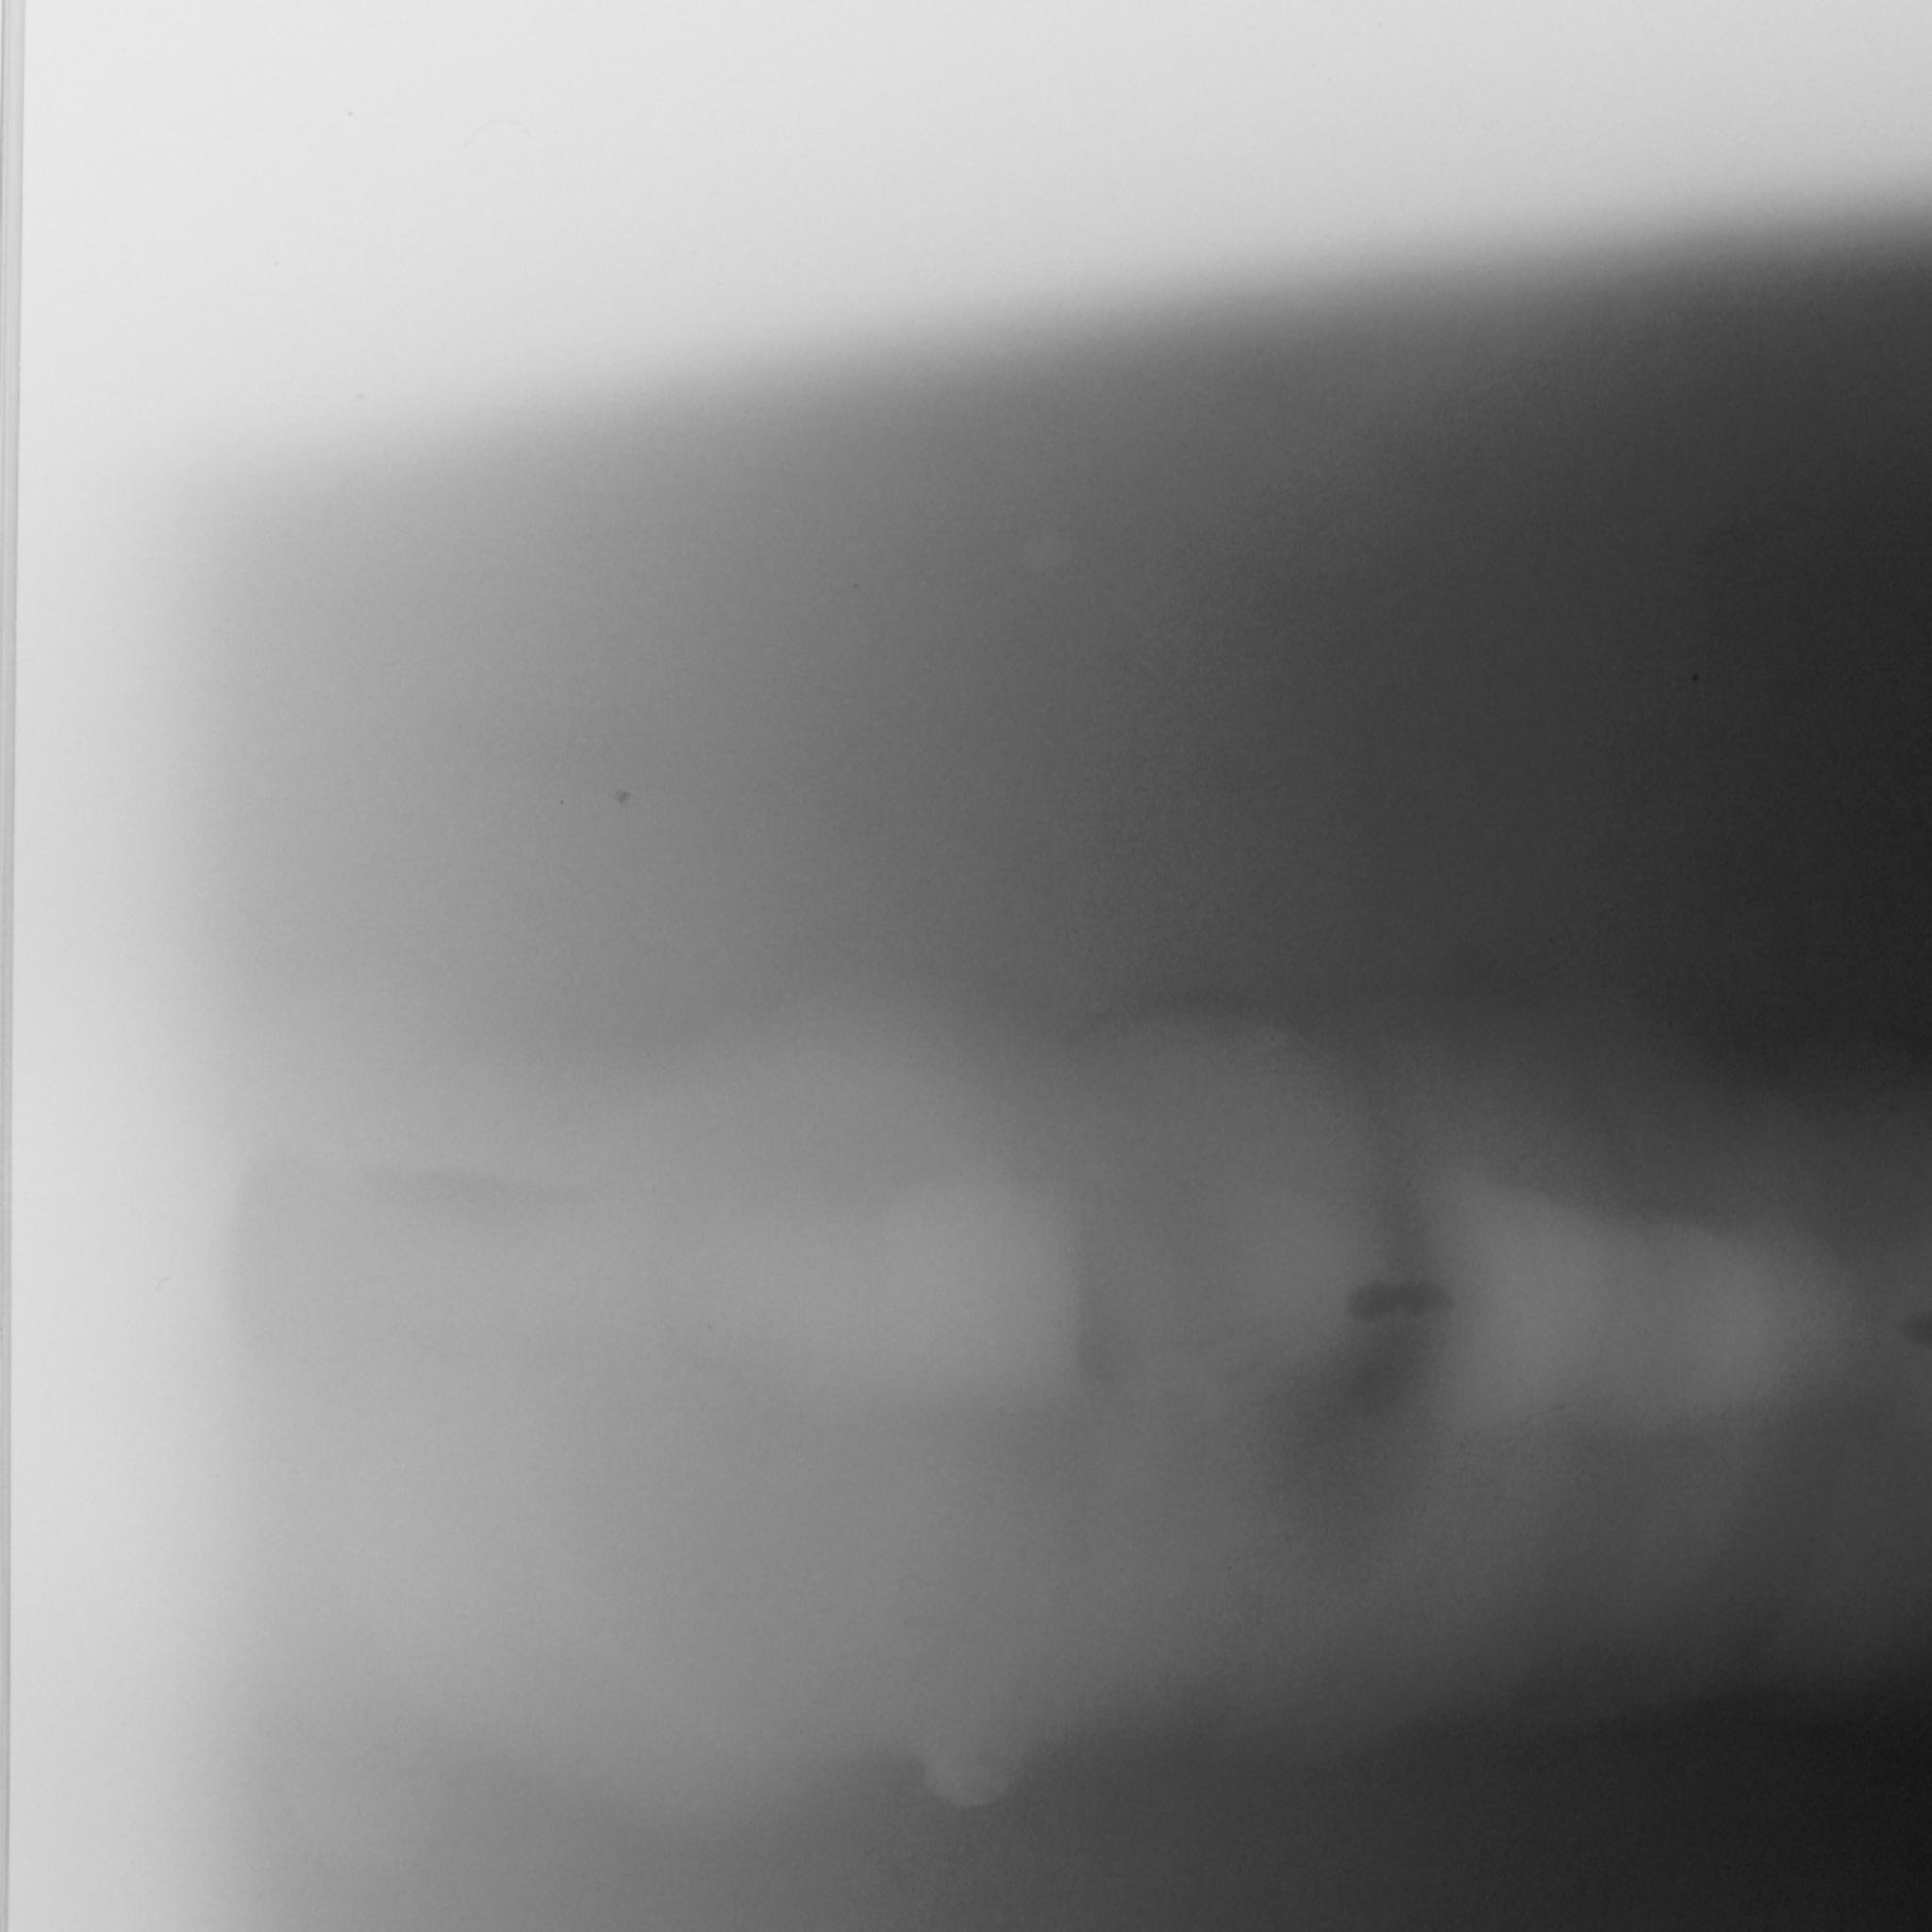PO: (605, 778, 651, 824)
Solda Ruim: (0, 939, 1932, 1870)
